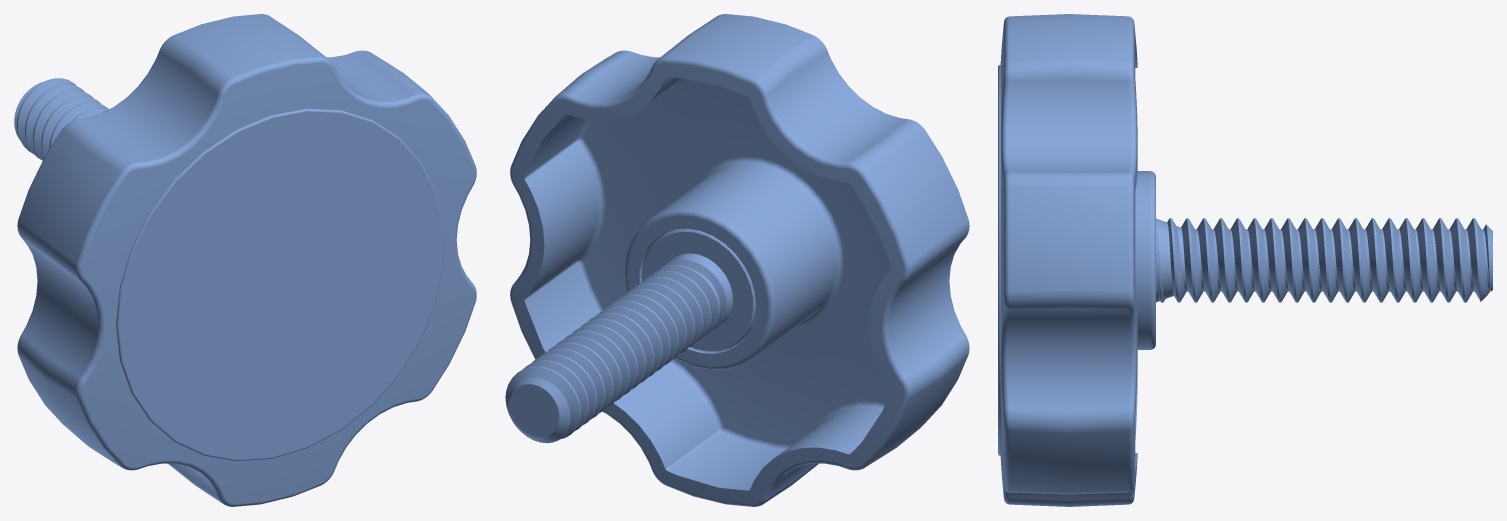
File: Boss_Extrude4.gltf
3 renders of one model, left to right at view 1: azimuth 30°, elevation 25°; view 2: azimuth 150°, elevation 25°; view 3: azimuth 270°, elevation 25°, orthographic. The views are drawn at different scales.
Visible parts, largest first — view 1: mesh51386, mesh51384, mesh51378, mesh51367, mesh51355, mesh51376, mesh51240, mesh51385, mesh51364, mesh51317, mesh51380, mesh51373 (+10 smaller); view 2: mesh51250, mesh51311, mesh51239, mesh51248, mesh51378, mesh51367, mesh51296, mesh51355, mesh51276, mesh51376, mesh51241, mesh51246 (+28 smaller); view 3: mesh51343, mesh51352, mesh51364, mesh51239, mesh51240, mesh51337, mesh51376, mesh51236, mesh51237, mesh51340, mesh51248, mesh51370 (+15 smaller).
Boxes of the visible parts, bbox=[...] form: mesh51386: bbox=[119, 111, 442, 459]; mesh51384: bbox=[82, 63, 474, 503]; mesh51378: bbox=[81, 52, 217, 161]; mesh51367: bbox=[19, 130, 119, 262]; mesh51355: bbox=[23, 239, 98, 377]; mesh51376: bbox=[175, 14, 319, 77]; mesh51240: bbox=[14, 79, 108, 160]; mesh51385: bbox=[116, 108, 443, 461]; mesh51364: bbox=[327, 52, 413, 101]; mesh51317: bbox=[19, 356, 119, 465]; mesh51380: bbox=[160, 35, 231, 93]; mesh51373: bbox=[63, 119, 137, 172]; mesh51250: bbox=[584, 79, 890, 444]; mesh51311: bbox=[512, 63, 904, 503]; mesh51239: bbox=[505, 253, 726, 439]; mesh51248: bbox=[653, 164, 836, 355]; mesh51378: bbox=[769, 52, 905, 161]; mesh51367: bbox=[867, 130, 967, 262]; mesh51296: bbox=[525, 143, 598, 297]; mesh51355: bbox=[888, 239, 963, 377]; mesh51276: bbox=[614, 364, 716, 468]; mesh51376: bbox=[667, 14, 811, 77]; mesh51241: bbox=[642, 231, 752, 350]; mesh51246: bbox=[627, 216, 767, 366]; mesh51343: bbox=[1007, 308, 1130, 411]; mesh51352: bbox=[1009, 187, 1128, 290]; mesh51364: bbox=[1007, 79, 1130, 171]; mesh51239: bbox=[1156, 219, 1489, 302]; mesh51240: bbox=[1156, 218, 1490, 301]; mesh51337: bbox=[1009, 431, 1128, 492]; mesh51376: bbox=[1009, 14, 1128, 60]; mesh51236: bbox=[1156, 218, 1480, 302]; mesh51237: bbox=[1186, 229, 1491, 291]; mesh51340: bbox=[1009, 408, 1128, 433]; mesh51248: bbox=[1135, 171, 1150, 349]; mesh51370: bbox=[1009, 57, 1128, 81].
Bounding box in the file's own units: 0.0363 × 0.038 × 0.0373.
